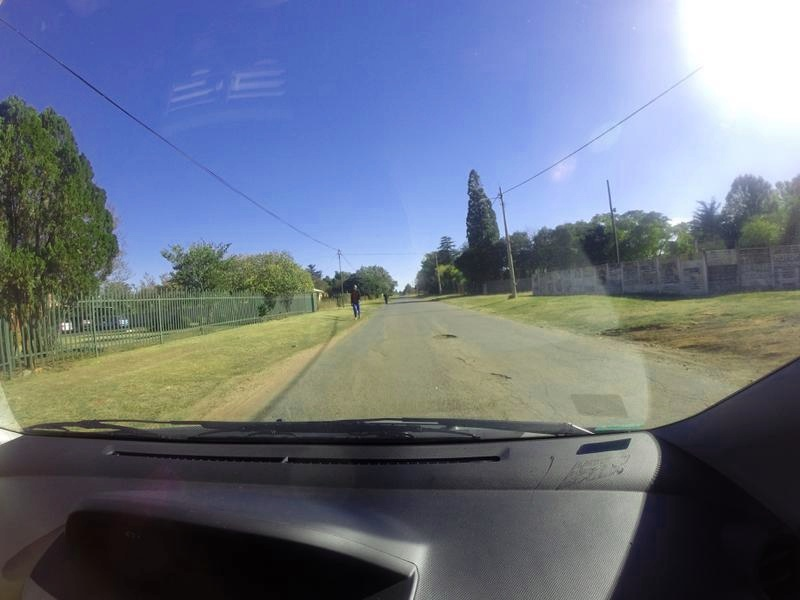pothole: (679, 339, 736, 360), (612, 323, 675, 339), (489, 363, 520, 387), (432, 329, 460, 342)
